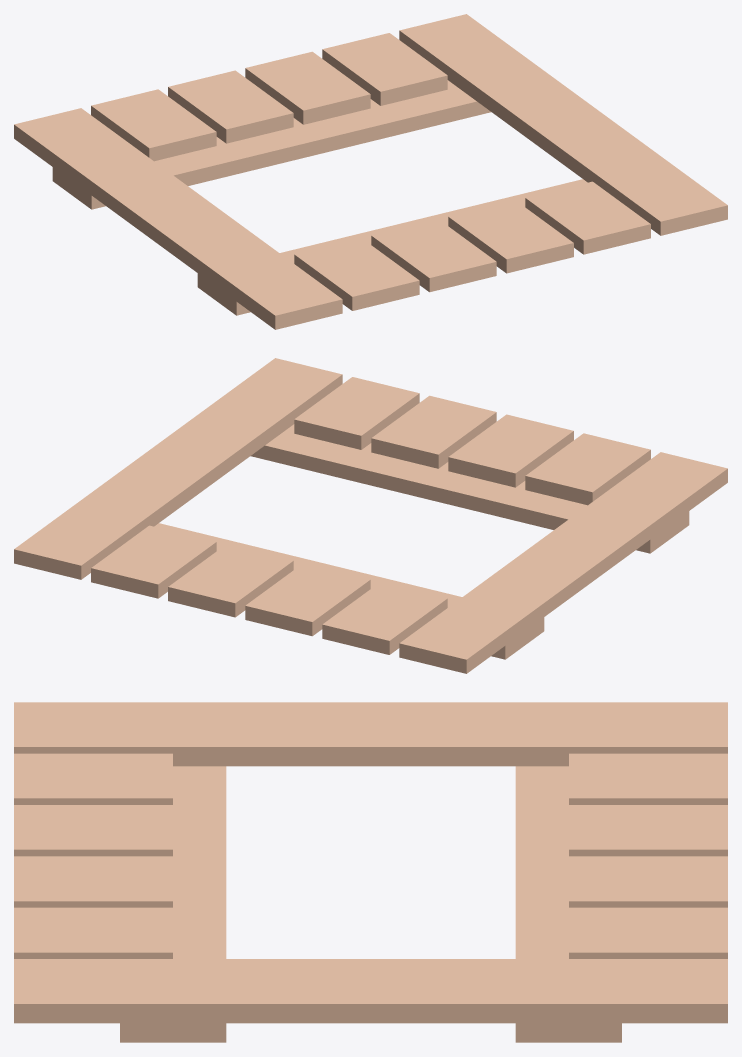
3 views of the same model, one above another, from view 1: azimuth 30°, elevation 25°; view 2: azimuth 150°, elevation 25°; view 3: azimuth 270°, elevation 25° (orthographic). The views are drawn at different scales.
Visible parts, largest first — view 1: planksOpening; view 2: planksOpening; view 3: planksOpening.
Part boxes in pixels (x1=…): planksOpening: x1=14, y1=14, x2=727, y2=329; planksOpening: x1=14, y1=358, x2=727, y2=673; planksOpening: x1=14, y1=702, x2=727, y2=1042.
Bounding box in the file's own units: 1 × 0.06 × 1.
